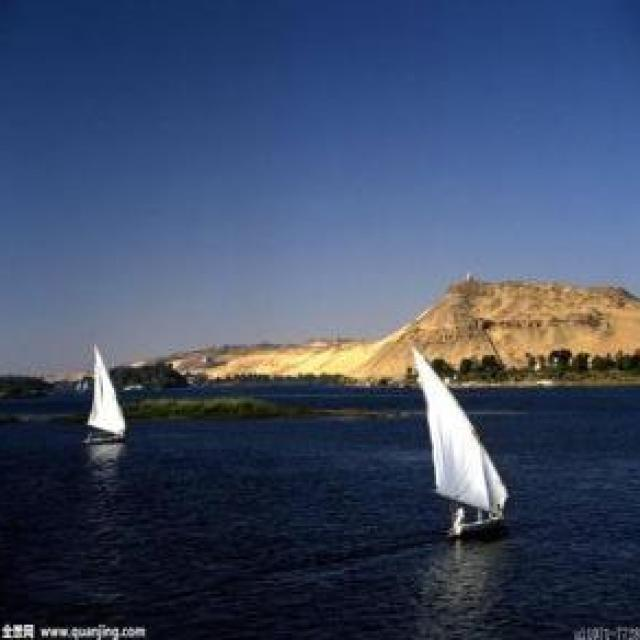sailboat: (401, 342, 514, 537), (65, 331, 134, 446)
